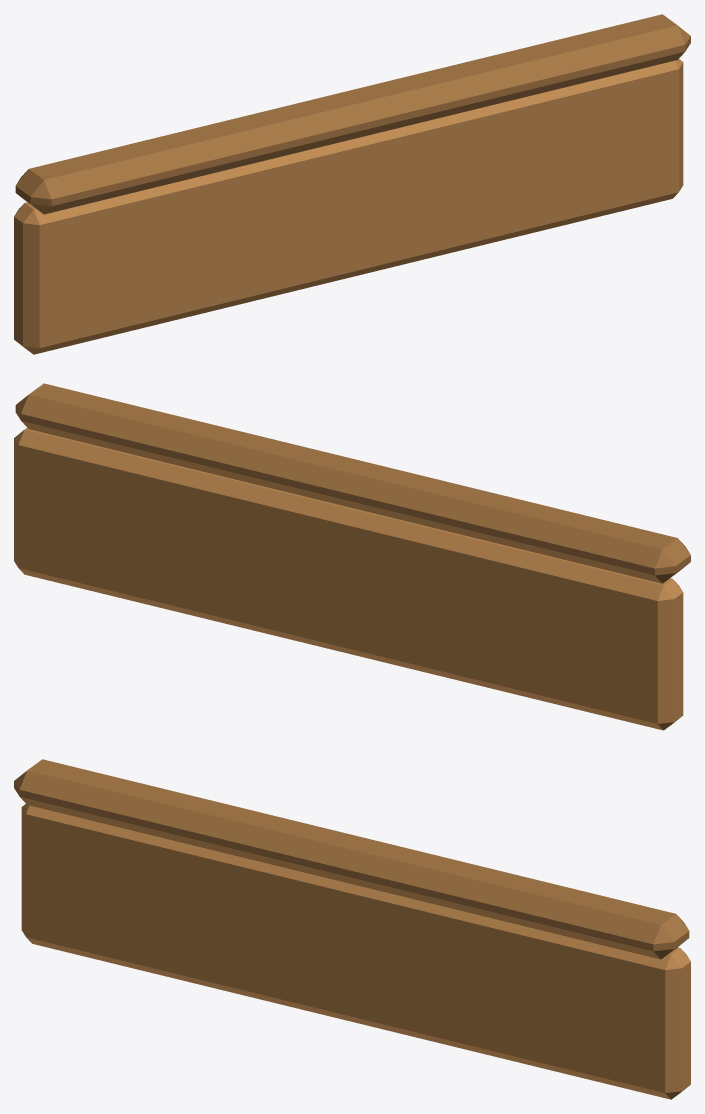
The model's file is skirting_strip_05m.glb.
3 renders of one model, top to bottom at view 1: azimuth 30°, elevation 25°; view 2: azimuth 150°, elevation 25°; view 3: azimuth 330°, elevation 25°, orthographic.
Visible parts, largest first — view 1: skirting_strip_05m; view 2: skirting_strip_05m; view 3: skirting_strip_05m.
Boxes of the visible parts, x1,y1,x2,y2 form: skirting_strip_05m: (14, 14, 690, 354); skirting_strip_05m: (14, 383, 690, 730); skirting_strip_05m: (14, 759, 690, 1099).
Bounding box in the file's own units: 0.5 × 0.13 × 0.04.
